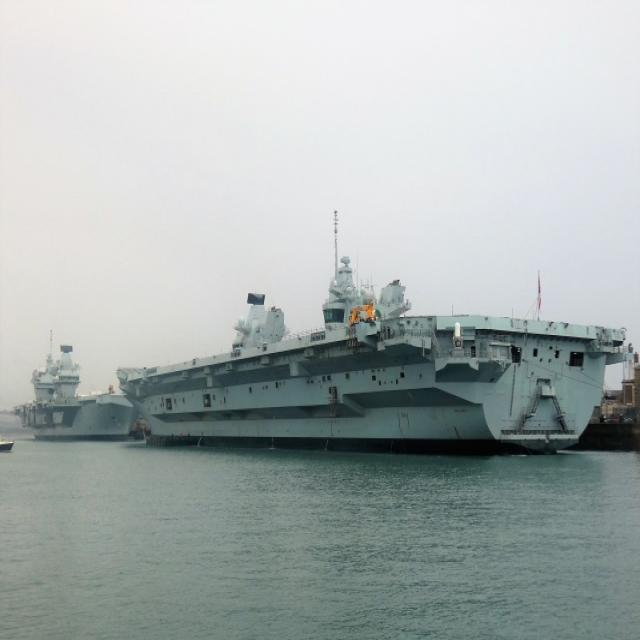Portanaves: (117, 202, 623, 460), (7, 342, 145, 440)
